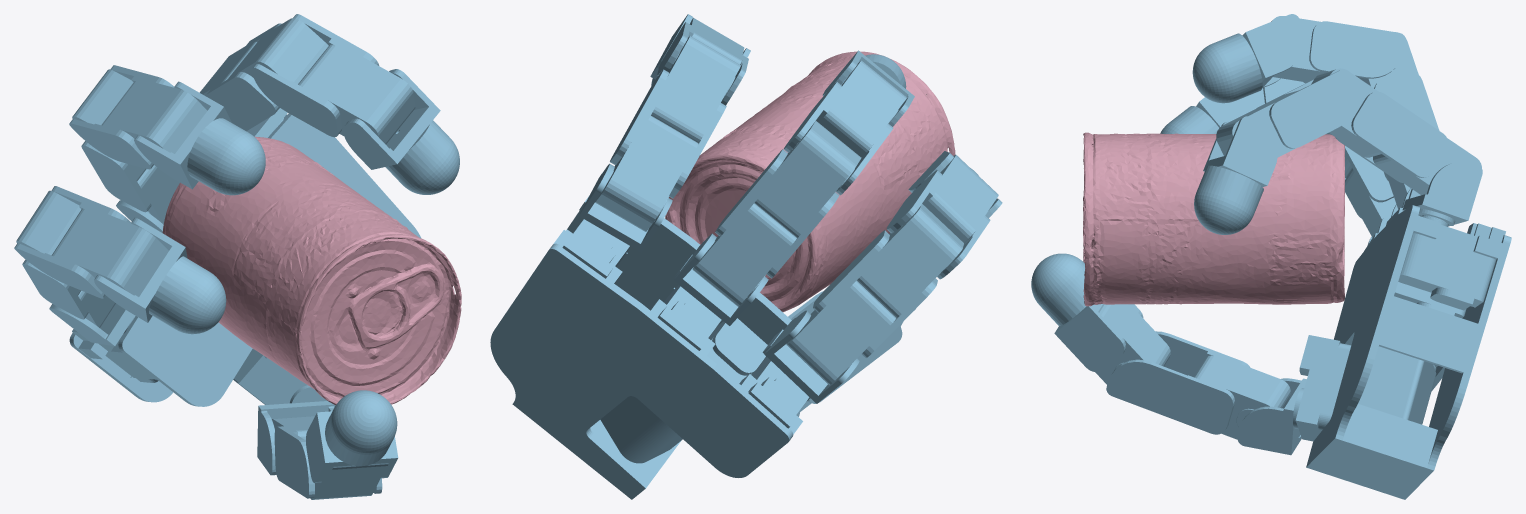
3 views of the same model, side by side, from view 1: azimuth 30°, elevation 25°; view 2: azimuth 150°, elevation 25°; view 3: azimuth 270°, elevation 25° (orthographic). The views are drawn at different scales.
Parts seen in each view (by area): view 1: world, tomato_soup_can.stl; view 2: world, tomato_soup_can.stl; view 3: world, tomato_soup_can.stl.
Boxes of the visible parts, x1=… form: world: x1=14, y1=14, x2=459, y2=499; tomato_soup_can.stl: x1=162, y1=136, x2=461, y2=405; world: x1=490, y1=14, x2=1002, y2=499; tomato_soup_can.stl: x1=665, y1=51, x2=955, y2=312; world: x1=1031, y1=14, x2=1511, y2=499; tomato_soup_can.stl: x1=1083, y1=132, x2=1344, y2=306.
Bounding box in the file's own units: 0.1749 × 0.1809 × 0.1866.
